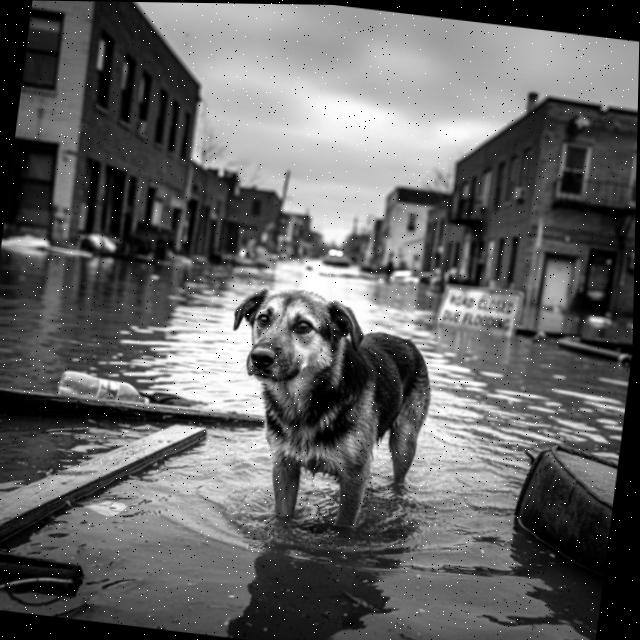dog: (187, 256, 466, 574)
